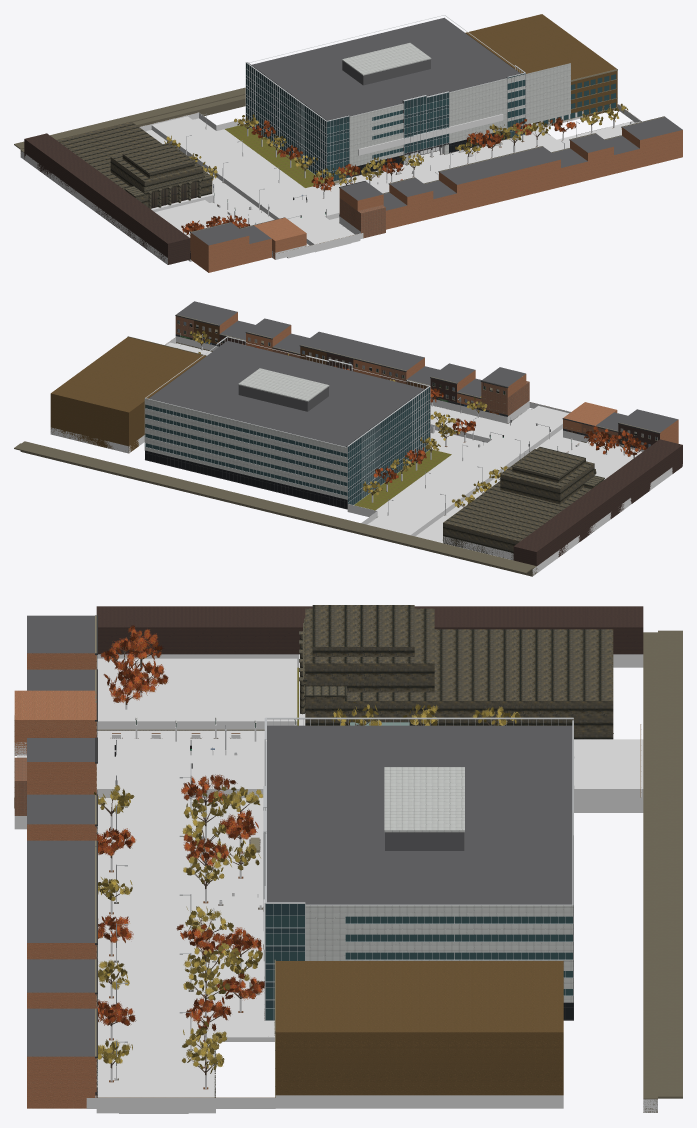
File: espum.glb
3 renders of one model, top to bottom at view 1: azimuth 30°, elevation 25°; view 2: azimuth 150°, elevation 25°; view 3: azimuth 270°, elevation 25°, orthographic. The views are drawn at different scales.
Visible parts, largest first — view 1: espum_toit_lm2, espum_brique_b_lm2, espum_panneau_lm2, espum_carreau_bleu, espum_brique_beige_lm2, NAV_mesh, espum_brique_c_lm2, espum_pierre_calcaire_lm2, TRIGGER_sol_asphalte_jean_talon, espum_alu_clair_lm2, espum_tympan, espum_feuillage_fevier_lm2 (+12 smaller); view 2: espum_toit_lm2, espum_brique_beige_lm2, espum_panneau_lm2, espum_pierre_calcaire_lm2, espum_carreau_bleu, espum_brique_c_lm2, espum_beton_talus_lm2, TRIGGER_sol_asphalte_jean_talon, espum_alu_clair_lm2, NAV_mesh, espum_brique_b_lm2, TRIGGER_sol_asphalte_parc (+14 smaller); view 3: espum_toit_lm2, espum_brique_beige_lm2, espum_pierre_calcaire_lm2, NAV_mesh, TRIGGER_sol_asphalte_parc, espum_beton_talus_lm2, espum_panneau_lm2, espum_brique_c_lm2, espum_brique_b_lm2, TRIGGER_sol_gazon_place, espum_feuillage_erable_lm2, espum_feuillage_fevier_lm2 (+11 smaller).
Boxes of the visible parts, <box> form: espum_toit_lm2: <box>191,17,682,245</box>; espum_brique_b_lm2: <box>190,127,682,272</box>; espum_panneau_lm2: <box>342,43,570,166</box>; espum_carreau_bleu: <box>246,69,615,180</box>; espum_brique_beige_lm2: <box>465,14,617,126</box>; NAV_mesh: <box>145,118,634,246</box>; espum_brique_c_lm2: <box>24,133,190,264</box>; espum_pierre_calcaire_lm2: <box>56,121,212,207</box>; TRIGGER_sol_asphalte_jean_talon: <box>151,116,350,246</box>; espum_alu_clair_lm2: <box>245,15,525,180</box>; espum_tympan: <box>246,63,525,180</box>; espum_feuillage_fevier_lm2: <box>164,103,628,185</box>; espum_toit_lm2: <box>148,301,677,446</box>; espum_brique_beige_lm2: <box>50,337,205,453</box>; espum_panneau_lm2: <box>144,368,347,499</box>; espum_pierre_calcaire_lm2: <box>443,447,603,559</box>; espum_carreau_bleu: <box>145,393,429,504</box>; espum_brique_c_lm2: <box>219,335,682,572</box>; espum_beton_talus_lm2: <box>14,441,536,576</box>; TRIGGER_sol_asphalte_jean_talon: <box>374,405,568,536</box>; espum_alu_clair_lm2: <box>145,333,430,504</box>; NAV_mesh: <box>176,343,585,542</box>; espum_brique_b_lm2: <box>219,312,678,443</box>; TRIGGER_sol_asphalte_parc: <box>166,342,547,447</box>; espum_toit_lm2: <box>27,615,572,1056</box>; espum_brique_beige_lm2: <box>275,961,563,1095</box>; espum_pierre_calcaire_lm2: <box>305,605,613,739</box>; NAV_mesh: <box>98,730,639,1097</box>; TRIGGER_sol_asphalte_parc: <box>119,755,188,1110</box>; espum_beton_talus_lm2: <box>643,630,682,1112</box>; espum_panneau_lm2: <box>305,767,573,1002</box>; espum_brique_c_lm2: <box>96,606,643,654</box>; espum_brique_b_lm2: <box>14,653,96,1108</box>; TRIGGER_sol_gazon_place: <box>97,658,297,729</box>; espum_feuillage_erable_lm2: <box>96,625,264,1031</box>; espum_feuillage_fevier_lm2: <box>94,702,522,1073</box>.
Bounding box in the file's own units: 222 × 30.35 × 135.
162 materials, 62 textured.
